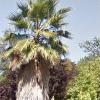Tree: (2, 0, 83, 76)
